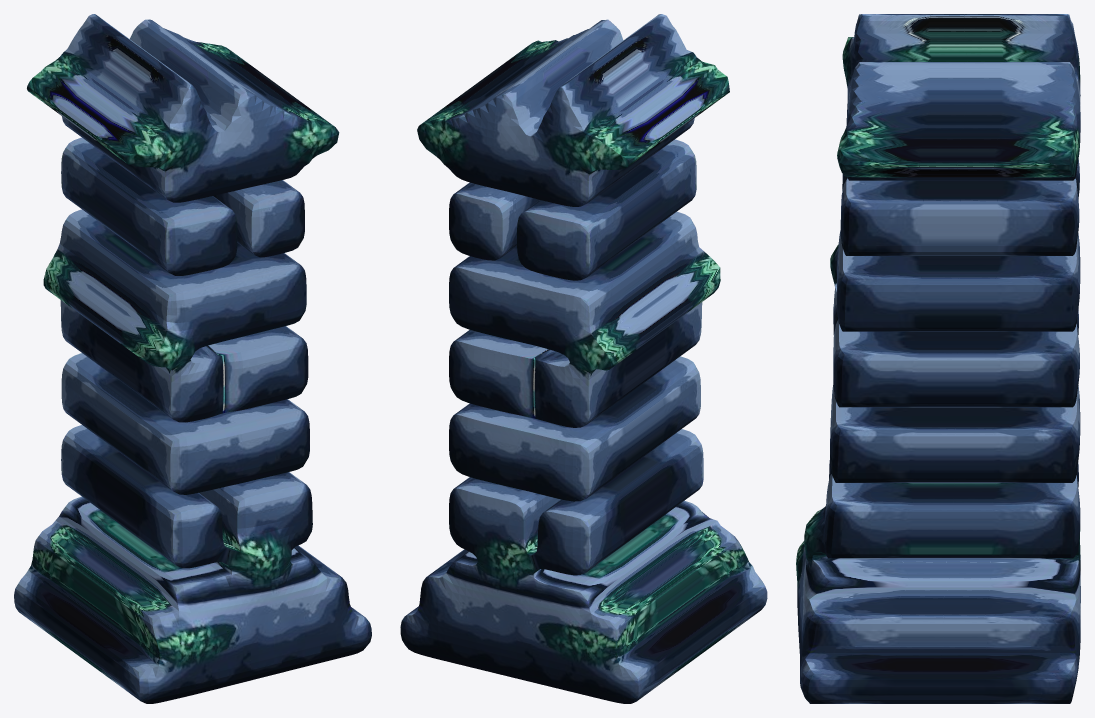
Rendered from ancient_pillar_broken.glb.
3 views of the same model, side by side, from view 1: azimuth 30°, elevation 25°; view 2: azimuth 150°, elevation 25°; view 3: azimuth 270°, elevation 25° (orthographic). The views are drawn at different scales.
Visible parts, largest first — view 1: geometry_0; view 2: geometry_0; view 3: geometry_0.
Part boxes in pixels (box(x1,y1,x2,y2)): geometry_0: box(14, 14, 371, 703); geometry_0: box(400, 14, 767, 703); geometry_0: box(796, 14, 1080, 703).
Size of the model in its own units: 2.97 by 7.12 by 2.99.
1 material, 1 textured.
